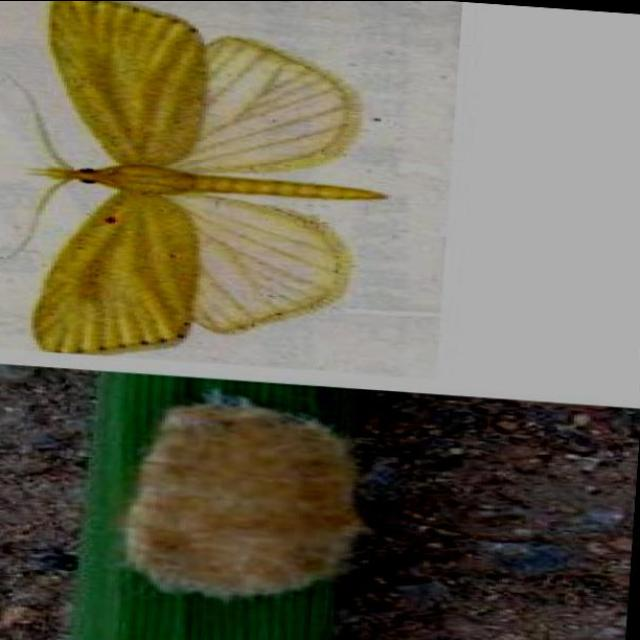stem borer: (30, 0, 385, 353), (120, 390, 363, 599)
